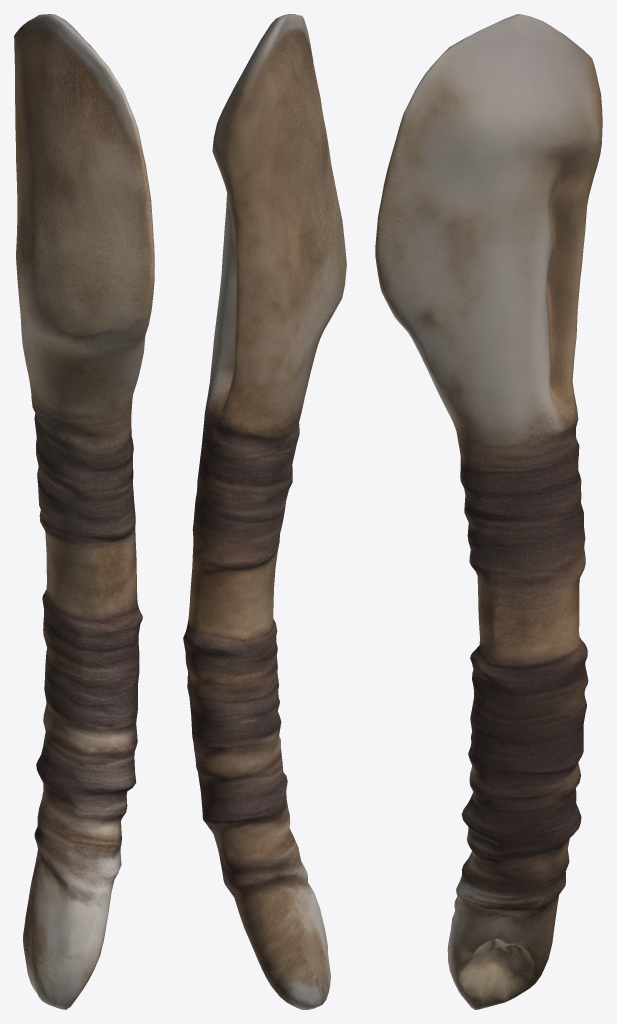
Rendered from knochendolch.glb.
The picture shows the model from 3 angles, left to right: view 1: azimuth 30°, elevation 25°; view 2: azimuth 150°, elevation 25°; view 3: azimuth 270°, elevation 25°; orthographic projection. The views are drawn at different scales.
Parts seen in each view (by area): view 1: Mesh_0; view 2: Mesh_0; view 3: Mesh_0.
Part boxes in pixels (left/top/right/bottom): Mesh_0: left=14, top=14, right=154, bottom=1009; Mesh_0: left=183, top=14, right=346, bottom=1009; Mesh_0: left=375, top=14, right=602, bottom=1009.
Size of the model in its own units: 0.0374 by 0.3 by 0.0618.
Materials: 1 (1 with a texture image).
